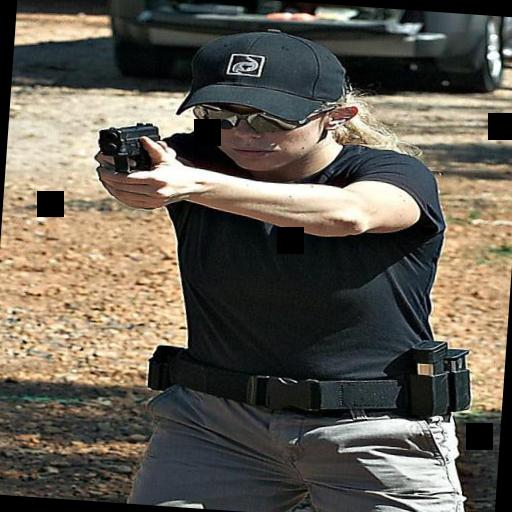Handgun: (84, 110, 170, 182)
